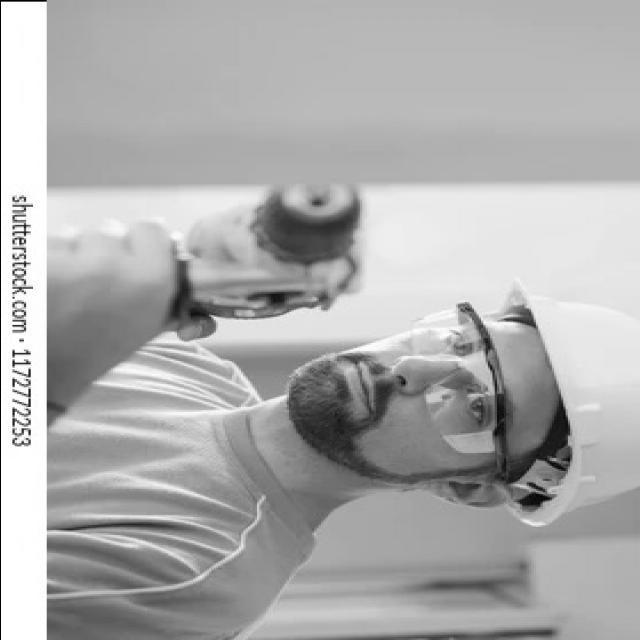safety_helmet: (507, 299, 640, 527)
